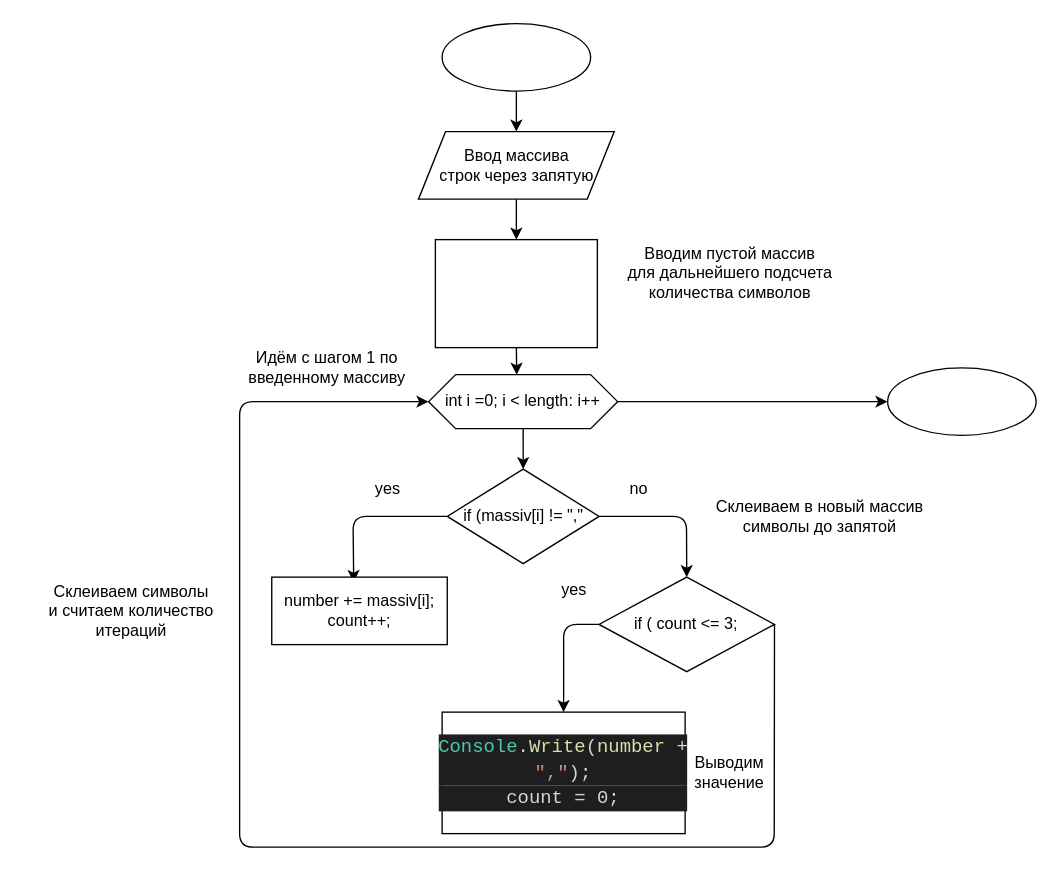
The diagram is 1060 pixels wide and 882 high, and some of its shapes have lost their labels. Here are the shapes that lost their labels. From the top down, the centre of each, then its label:
pixel 516 56: Начало
pixel 515 293: string number = string.Empty; int length = massiv.Length
pixel 961 401: Конец
